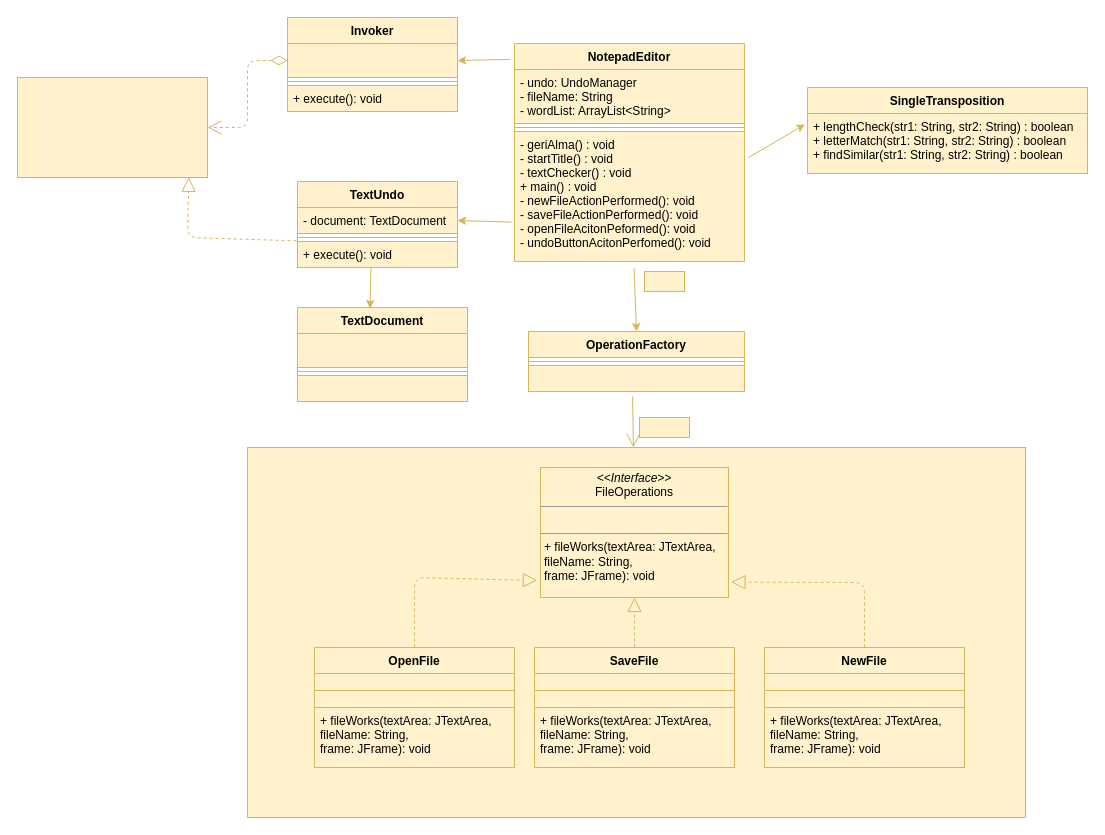
This 1105x835 diagram has some shape labels left out. The centre of each missing label's shape, as x and y in pixels:
+ getOperations(opType: String): pixel 636 378
+ letterUndo(): void: pixel 382 388
- command:: Command: pixel 372 60
- textarea: JTextArea: pixel 382 350
<<Interface>> Command + execute(): void: pixel 112 127
asks: pixel 664 281
creates: pixel 664 427
